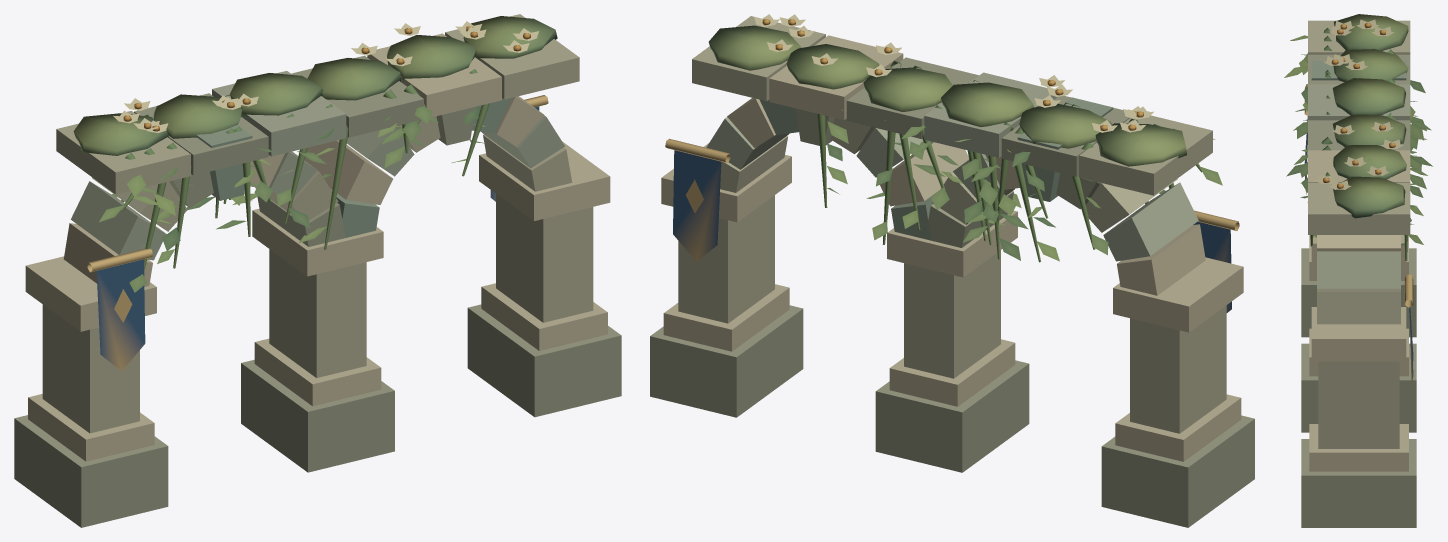
The model's file is ivy_cloister.glb.
The picture shows the model from 3 angles, left to right: view 1: azimuth 30°, elevation 25°; view 2: azimuth 150°, elevation 25°; view 3: azimuth 270°, elevation 25°; orthographic projection. The views are drawn at different scales.
Parts seen in each view (by area): view 1: ivy_cloister; view 2: ivy_cloister; view 3: ivy_cloister.
Boxes of the visible parts, x1=… form: ivy_cloister: x1=14, y1=14, x2=621, y2=527; ivy_cloister: x1=650, y1=14, x2=1254, y2=527; ivy_cloister: x1=1284, y1=14, x2=1432, y2=527.
Size of the model in its own units: 4.1 by 2.68 by 1.14.
